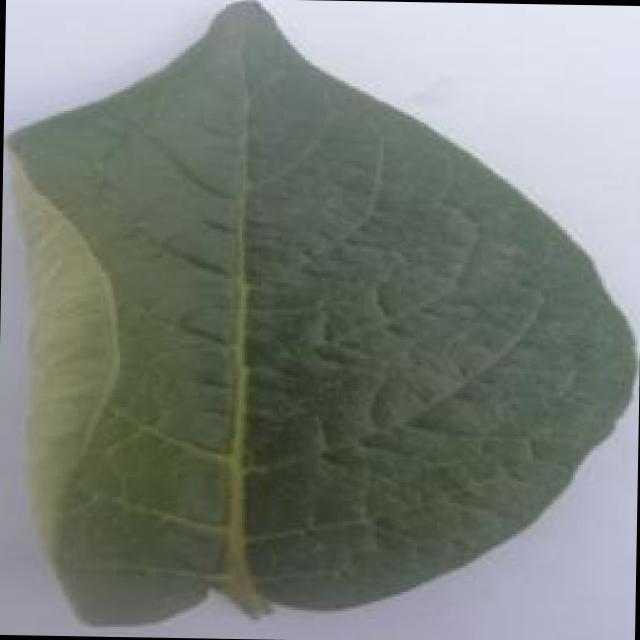Potato_Healthy: (0, 0, 630, 627)
